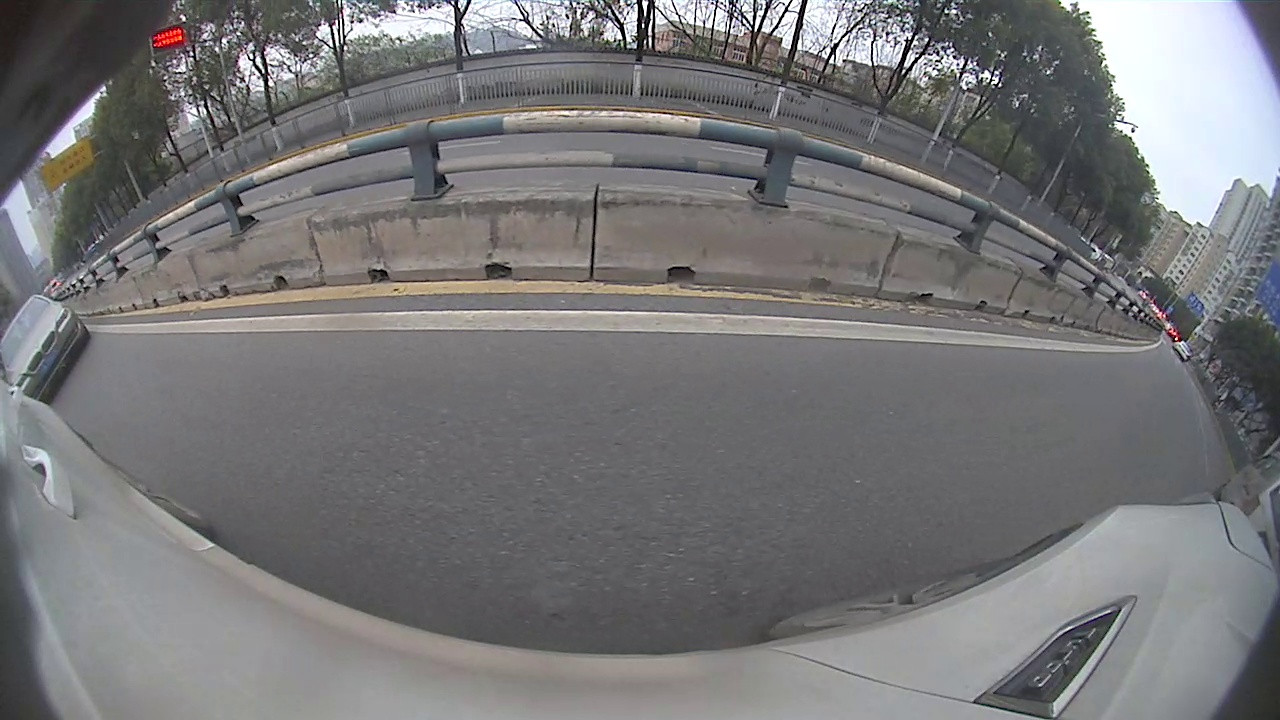car: (2, 291, 91, 408)
